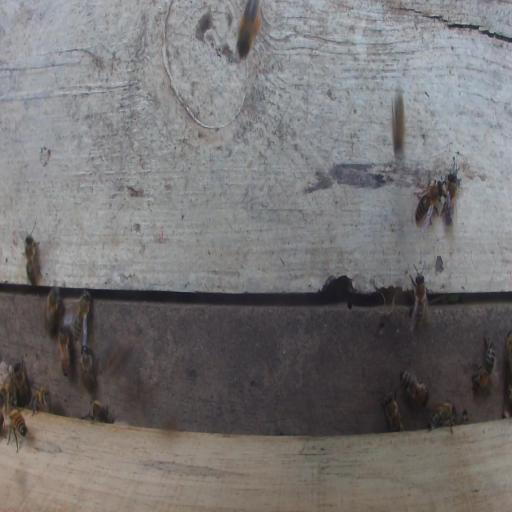bee: (409, 179, 444, 234), (236, 0, 266, 61), (407, 260, 431, 332), (471, 333, 496, 391), (65, 291, 91, 346), (399, 369, 430, 406), (6, 405, 29, 453), (442, 167, 461, 225), (23, 222, 40, 285), (381, 389, 404, 432), (392, 85, 405, 160), (12, 354, 29, 410), (427, 402, 457, 433), (45, 285, 61, 335), (80, 344, 95, 390), (58, 326, 70, 378), (30, 387, 50, 415), (91, 398, 109, 423), (457, 409, 471, 424), (441, 212, 441, 213)
